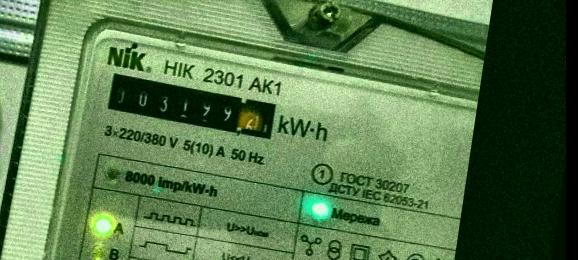0: (112, 82, 127, 105), (134, 85, 149, 107)
1: (178, 92, 191, 112)
3: (156, 92, 170, 112)
6: (243, 114, 255, 131)
9: (219, 101, 233, 121), (199, 96, 212, 117)
screen: (98, 67, 286, 147)
